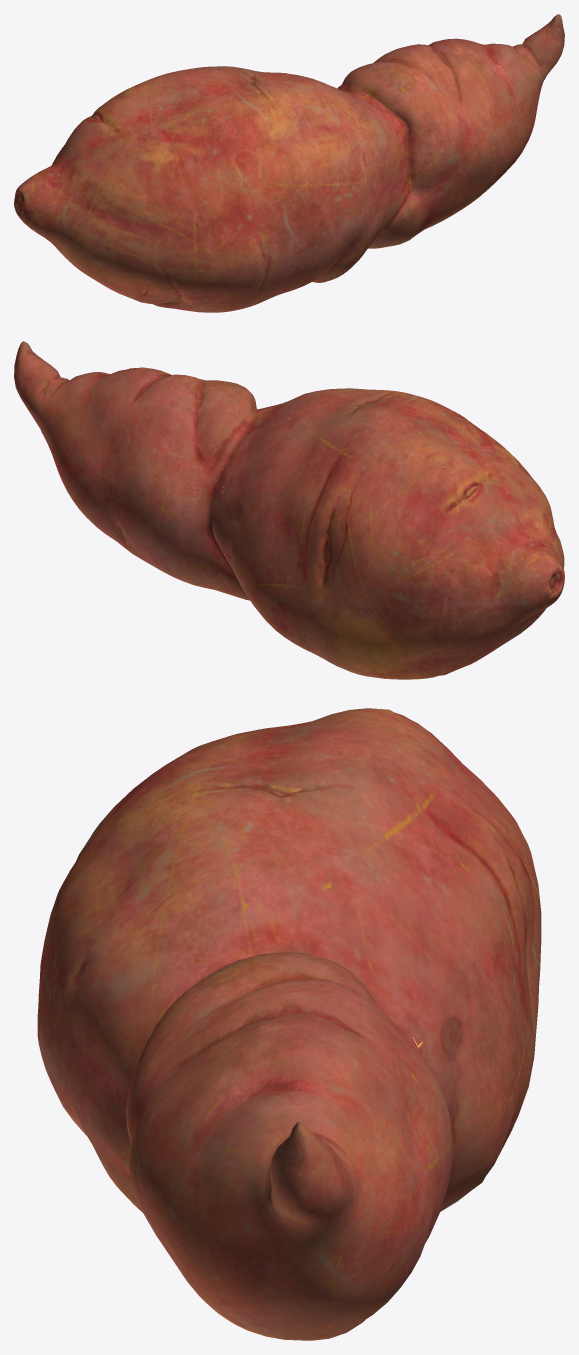
The model's file is sweetPotato_real.glb.
The picture shows the model from 3 angles, top to bottom: view 1: azimuth 30°, elevation 25°; view 2: azimuth 150°, elevation 25°; view 3: azimuth 270°, elevation 25°; orthographic projection. The views are drawn at different scales.
Parts seen in each view (by area): view 1: Object_3; view 2: Object_3; view 3: Object_3.
Boxes of the visible parts, x1=… form: Object_3: x1=14, y1=14, x2=564, y2=312; Object_3: x1=14, y1=341, x2=564, y2=679; Object_3: x1=37, y1=708, x2=541, y2=1340.
Size of the model in its own units: 164 by 69.11 by 68.22.
1 material, 1 textured.
